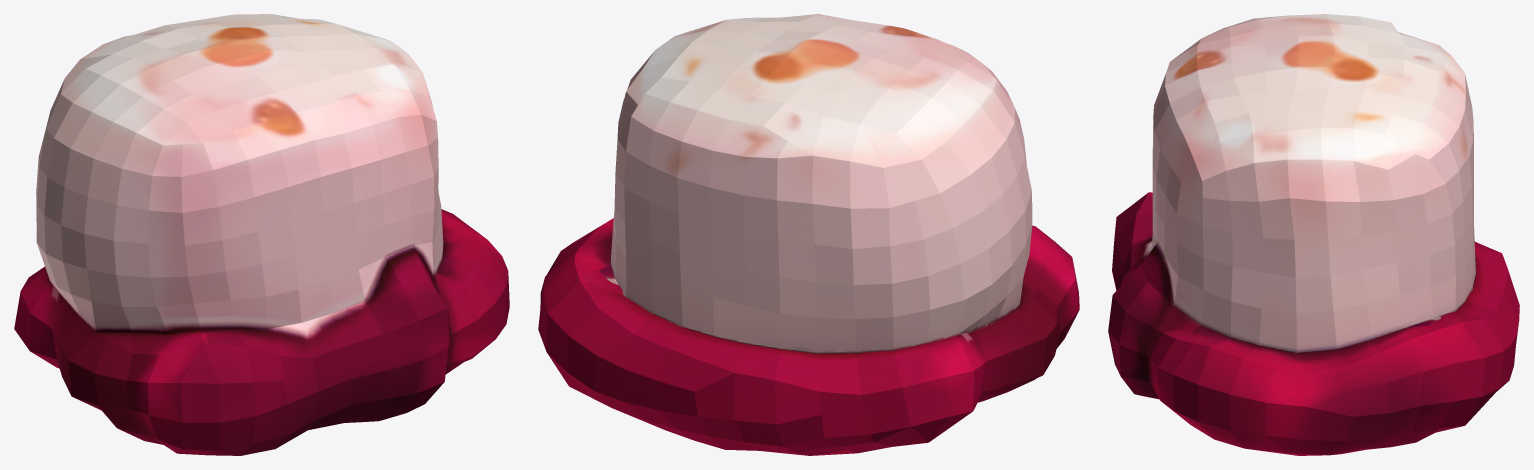
File: tooth2_1.0.fbx
3 views of the same model, side by side, from view 1: azimuth 30°, elevation 25°; view 2: azimuth 150°, elevation 25°; view 3: azimuth 270°, elevation 25° (orthographic). The views are drawn at different scales.
Visible parts, largest first — view 1: temp; view 2: temp; view 3: temp.
Boxes of the visible parts, x1,y1,x2,y2 form: temp: (14,14,509,455); temp: (538,14,1079,455); temp: (1108,14,1519,455).
Bounding box in the file's own units: 1.9 × 1.36 × 1.61.
1 material, 1 textured.
